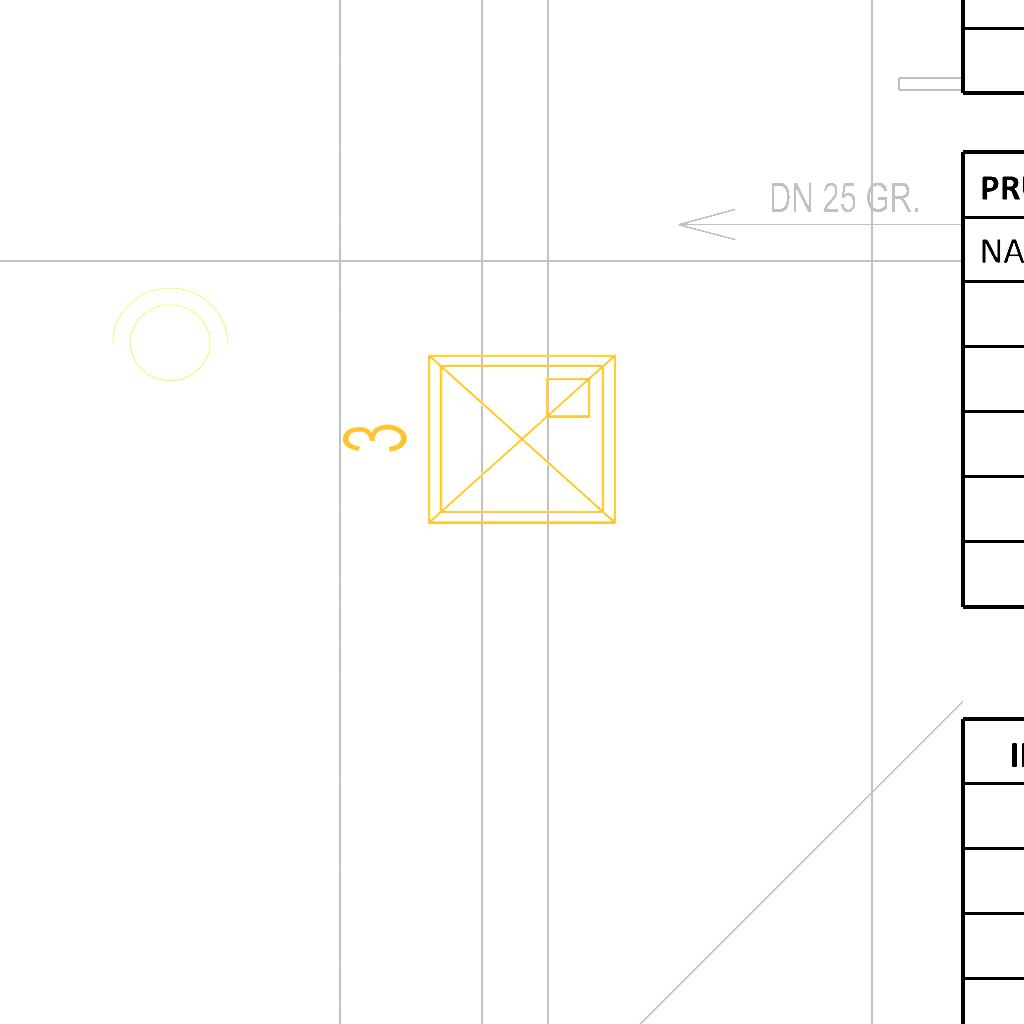Einbaudownlights_LED_Konferenzraeume: (331, 339, 631, 547)
Scheinwerfer_fuer_Alarmbeleuchtung: (101, 282, 233, 394)
